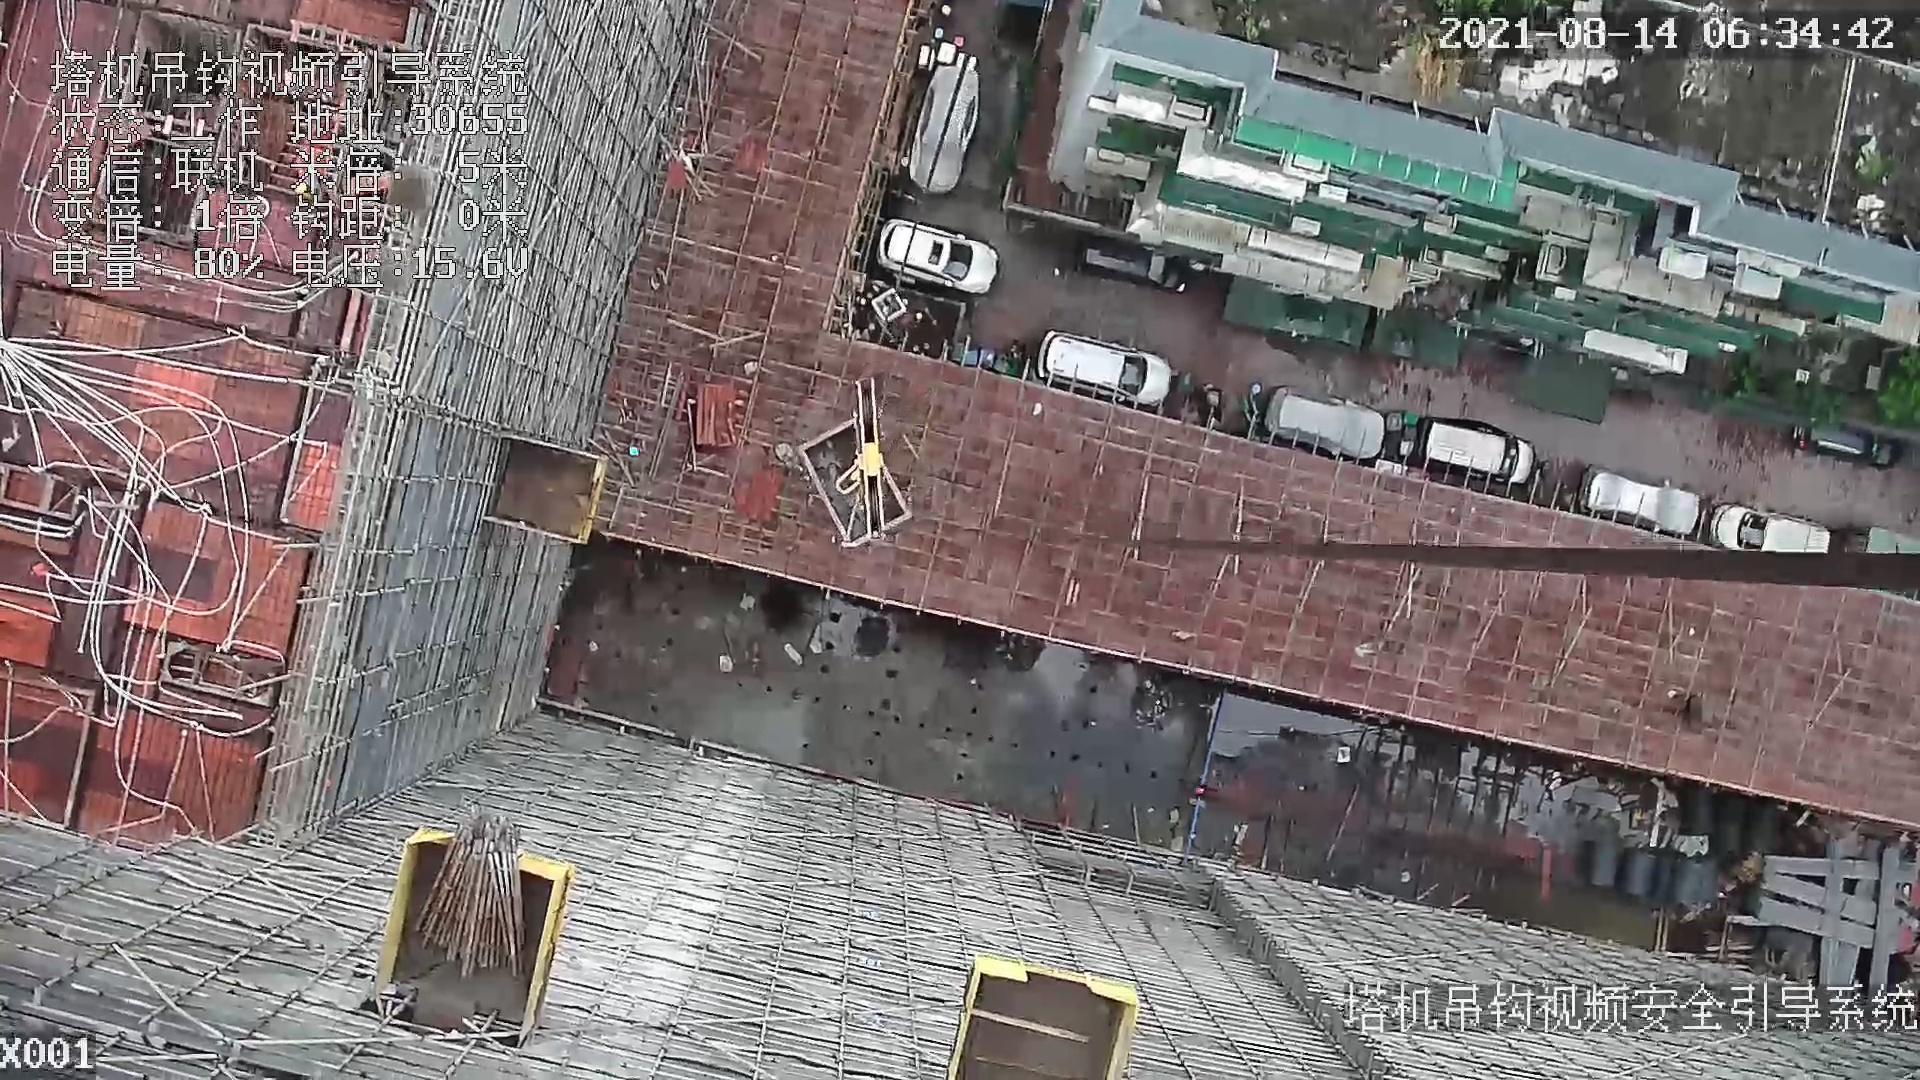hook: (837, 375, 887, 545)
hopper: (795, 409, 920, 574)
scaffold: (433, 800, 538, 986)
